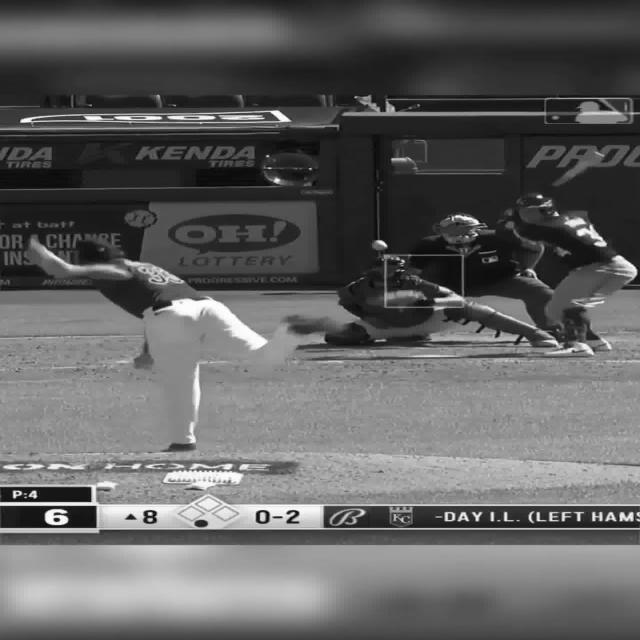baseball: (370, 240, 388, 251)
baseball_glove: (375, 292, 430, 308)
bat: (548, 154, 605, 192)
shoe: (285, 312, 341, 334), (324, 326, 370, 345), (542, 342, 594, 356), (528, 329, 558, 347), (585, 335, 611, 351), (162, 443, 196, 451)
